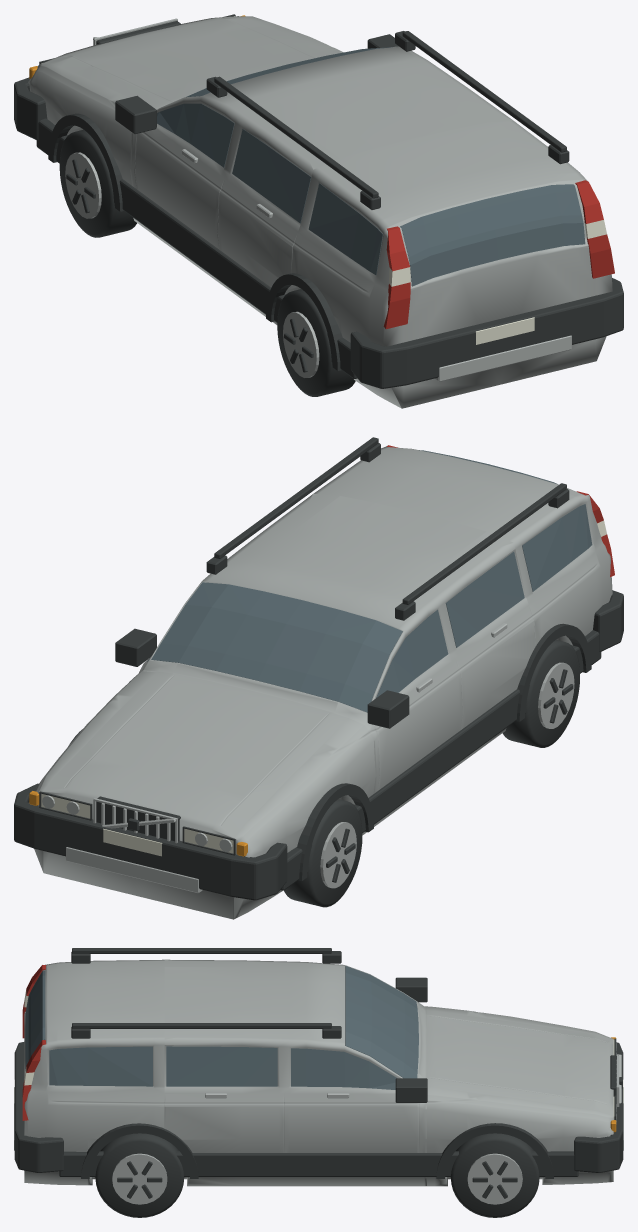
File: xc70-civilian.glb
The picture shows the model from 3 angles, top to bottom: view 1: azimuth 30°, elevation 25°; view 2: azimuth 150°, elevation 25°; view 3: azimuth 270°, elevation 25°; orthographic projection. The views are drawn at different scales.
Parts seen in each view (by area): view 1: body, glass_envelope, bumper_rear, trim_sill, wheel_rl, wheel_fl, lamp_tail, trim_skid_rear, lamp_tail.001, trim_arch.001, trim_arch, trim_roof_rail (+6 smaller); view 2: body, glass_envelope, bumper_front, trim_sill, wheel_fl, wheel_rl, trim_skid_front, trim_arch, trim_arch.001, trim_roof_rail, trim_roof_rail.001, trim_rim_fl (+6 smaller); view 3: body, glass_envelope, trim_sill.001, wheel_fr, wheel_rr, bumper_rear, bumper_front, trim_rim_fr, trim_rim_rr, trim_arch.002, trim_arch.003, trim_roof_rail (+6 smaller).
Boxes of the visible parts, box(x1,y1,x2,y2) form: body: box(28, 16, 612, 408); glass_envelope: box(157, 47, 585, 286); bumper_rear: box(350, 278, 623, 388); trim_sill: box(36, 118, 357, 378); wheel_rl: box(277, 289, 355, 396); wheel_fl: box(59, 129, 136, 237); lamp_tail: box(383, 226, 410, 329); trim_skid_rear: box(435, 335, 571, 381); lamp_tail.001: box(575, 180, 614, 278); trim_arch.001: box(266, 273, 342, 370); trim_arch: box(48, 113, 123, 211); trim_roof_rail: box(214, 76, 378, 198); body: box(28, 446, 612, 919); glass_envelope: box(146, 450, 592, 712); bumper_front: box(14, 783, 287, 900); trim_sill: box(280, 630, 601, 890); wheel_fl: box(284, 799, 362, 907); wheel_rl: box(502, 640, 579, 747); trim_skid_front: box(66, 847, 202, 893); trim_arch: box(297, 783, 373, 881); trim_arch.001: box(516, 623, 591, 721); trim_roof_rail: box(402, 483, 566, 604); trim_roof_rail.001: box(214, 437, 378, 558); trim_rim_fl: box(320, 822, 356, 888); body: box(24, 959, 613, 1186); glass_envelope: box(25, 966, 418, 1089); trim_sill.001: box(59, 1151, 578, 1176); wheel_fr: box(450, 1133, 539, 1217); wheel_rr: box(95, 1133, 184, 1217); bumper_rear: box(14, 1042, 63, 1172); bumper_front: box(574, 1042, 623, 1172); trim_rim_fr: box(467, 1153, 522, 1204); trim_rim_rr: box(112, 1153, 167, 1204); trim_arch.002: box(436, 1123, 553, 1178); trim_arch.003: box(81, 1123, 198, 1178); trim_roof_rail: box(72, 948, 331, 953).
Size of the model in its own units: 2.02 by 1.56 by 4.74.
